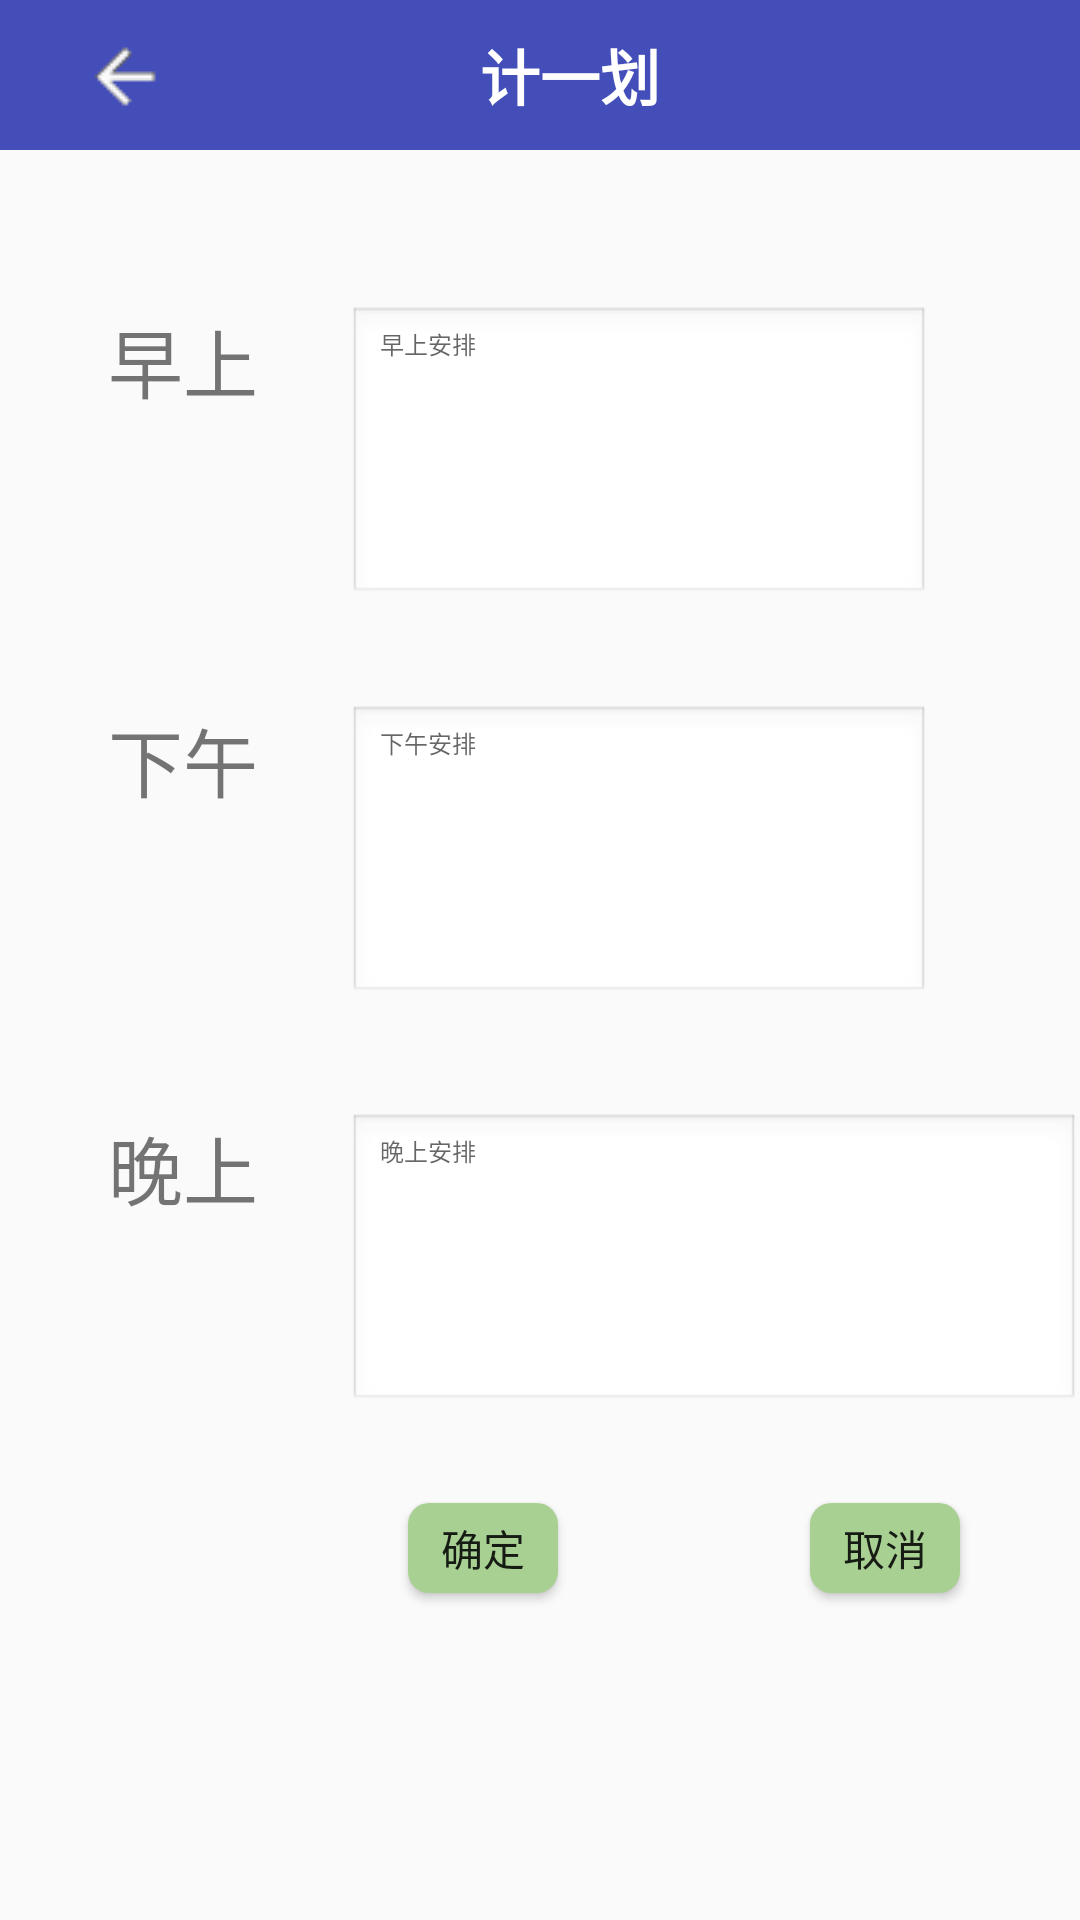

Screen size 1080px x 1920px. Icon name, then its center in pixels as [x,y]:
back: [125,76]
